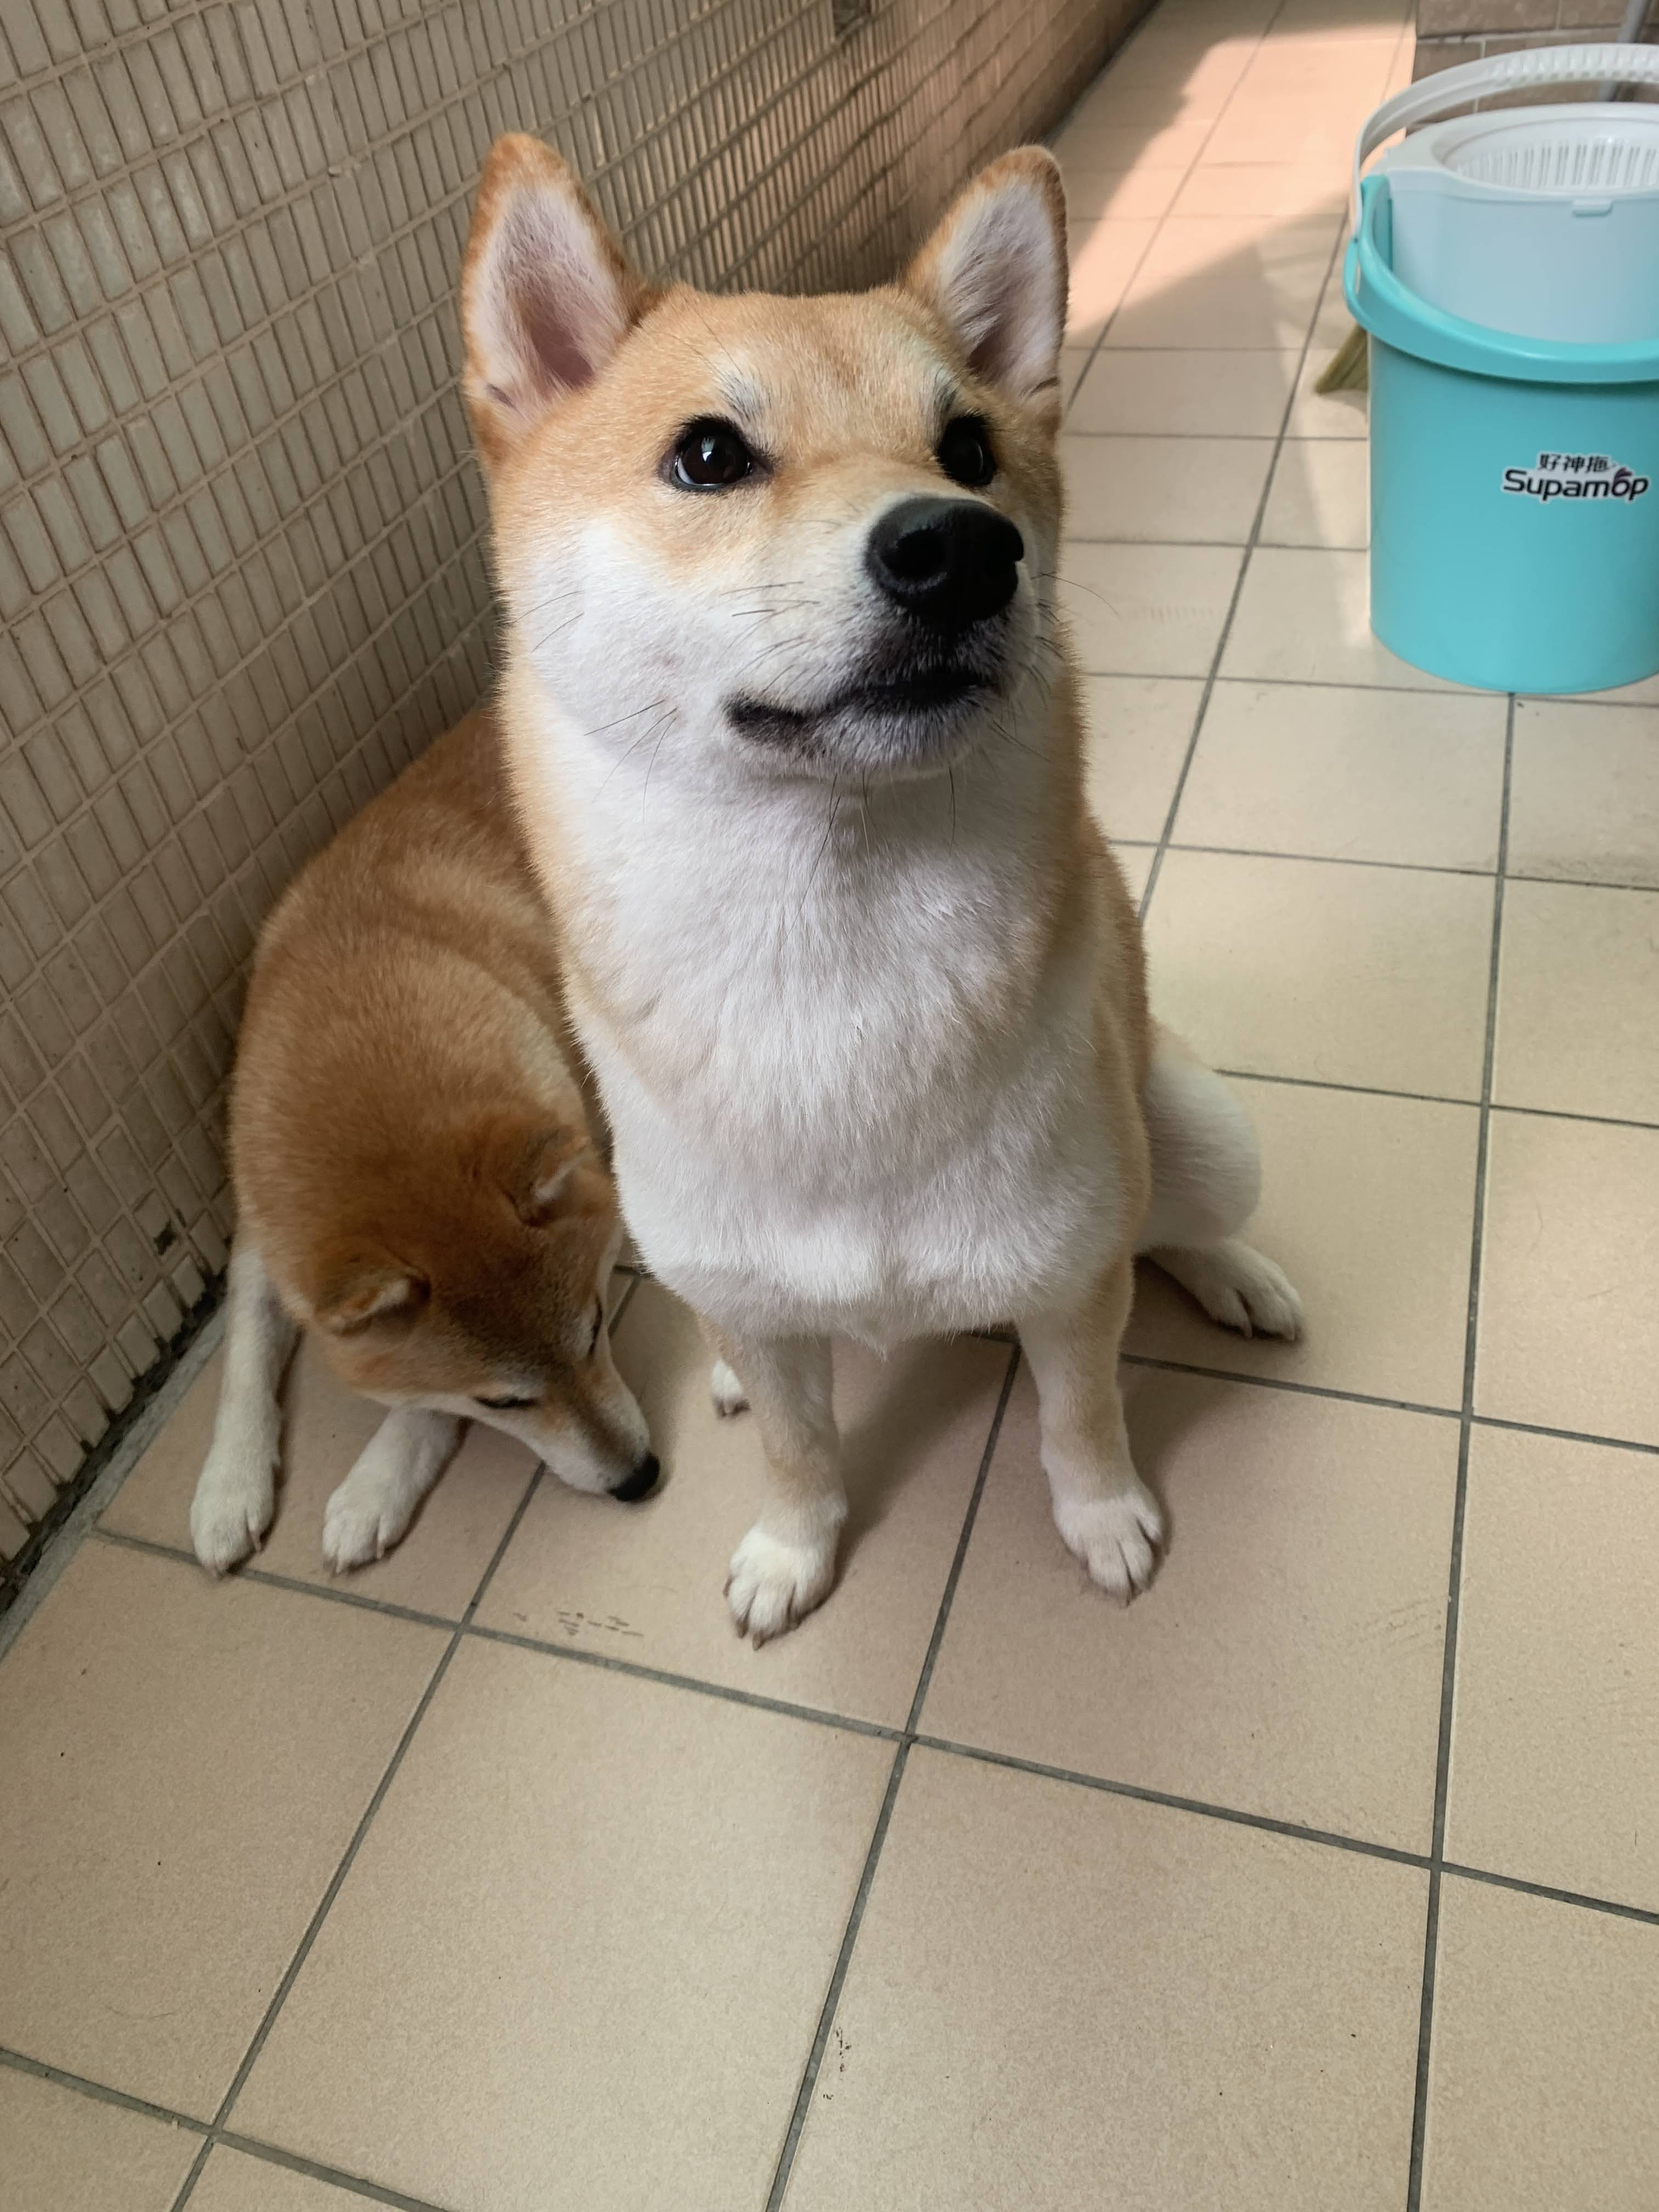Lie down: (204, 636, 659, 1623)
Sit down: (450, 94, 1363, 1623)
